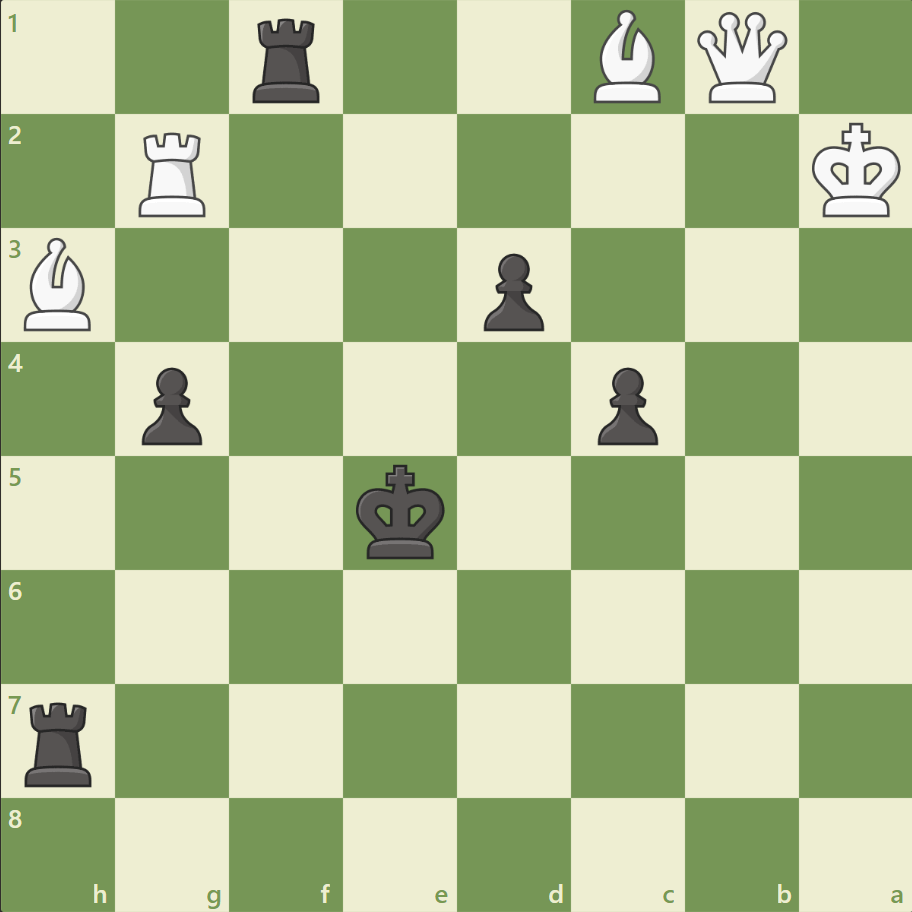B: (17, 233, 101, 336), (585, 6, 669, 109)
K: (806, 117, 906, 225)
Q: (691, 9, 790, 108)
R: (133, 125, 215, 222)
k: (351, 458, 451, 566)
p: (133, 359, 208, 450), (474, 246, 549, 337), (588, 359, 662, 450)
r: (19, 693, 102, 790), (246, 12, 329, 109)
